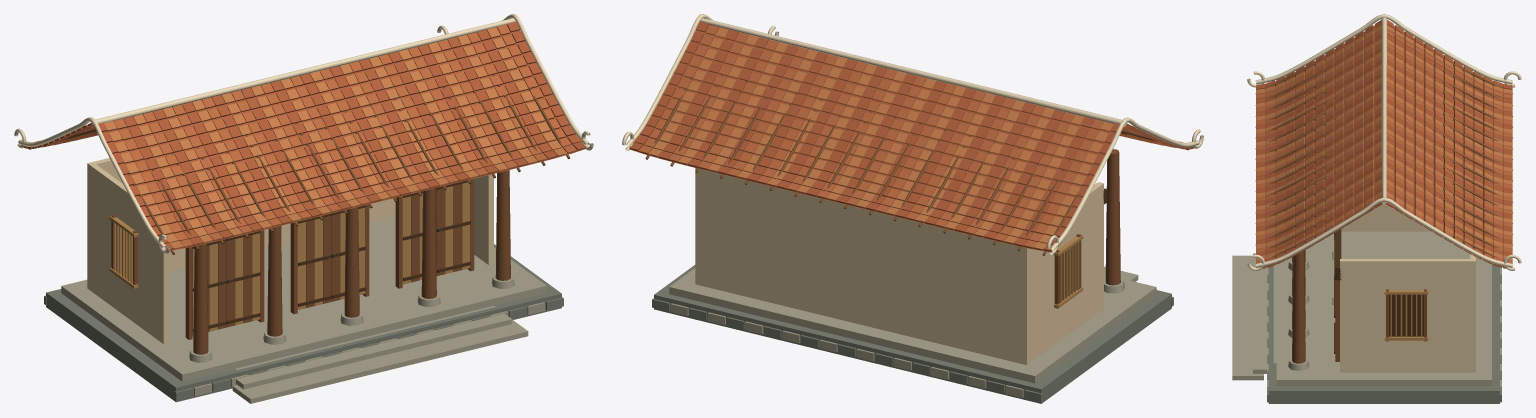
File: LV_DINH_LANG_01.glb
3 renders of one model, left to right at view 1: azimuth 30°, elevation 25°; view 2: azimuth 150°, elevation 25°; view 3: azimuth 270°, elevation 25°, orthographic. The views are drawn at different scales.
Visible parts, largest first — view 1: LV_DINH_LANG_01-surface-a8a28c, LV_DINH_LANG_01-surface-af5e39, LV_DINH_LANG_01-surface-c57b49, LV_DINH_LANG_01-surface-bb6a40, LV_DINH_LANG_01-surface-825331, LV_DINH_LANG_01-surface-dec8a1, LV_DINH_LANG_01-surface-797e70, LV_DINH_LANG_01-surface-ead9b8, door-hinge-1-surface-b68850 (×3), door-hinge-1-surface-825331 (×3), door-hinge--1-surface-b68850 (×3), door-hinge--1-surface-825331 (×3) (+1 smaller); view 2: LV_DINH_LANG_01-surface-dec8a1, LV_DINH_LANG_01-surface-af5e39, LV_DINH_LANG_01-surface-c57b49, LV_DINH_LANG_01-surface-bb6a40, LV_DINH_LANG_01-surface-a8a28c, LV_DINH_LANG_01-surface-797e70, LV_DINH_LANG_01-surface-825331, LV_DINH_LANG_01-surface-ead9b8, LV_DINH_LANG_01-surface-b68850; view 3: LV_DINH_LANG_01-surface-af5e39, LV_DINH_LANG_01-surface-a8a28c, LV_DINH_LANG_01-surface-c57b49, LV_DINH_LANG_01-surface-bb6a40, LV_DINH_LANG_01-surface-dec8a1, LV_DINH_LANG_01-surface-825331, LV_DINH_LANG_01-surface-797e70, LV_DINH_LANG_01-surface-ead9b8, LV_DINH_LANG_01-surface-50351f, LV_DINH_LANG_01-surface-b68850.
Part boxes in pixels (x1,y1,x2,y2): LV_DINH_LANG_01-surface-a8a28c: [61, 216, 546, 403]; LV_DINH_LANG_01-surface-af5e39: [24, 21, 586, 250]; LV_DINH_LANG_01-surface-c57b49: [34, 27, 567, 249]; LV_DINH_LANG_01-surface-bb6a40: [53, 24, 577, 247]; LV_DINH_LANG_01-surface-825331: [29, 74, 569, 354]; LV_DINH_LANG_01-surface-dec8a1: [87, 158, 493, 344]; LV_DINH_LANG_01-surface-797e70: [44, 244, 563, 402]; LV_DINH_LANG_01-surface-ead9b8: [14, 14, 593, 253]; door-hinge-1-surface-b68850 (×3): [235, 182, 470, 325]; door-hinge-1-surface-825331 (×3): [226, 184, 461, 327]; door-hinge--1-surface-b68850 (×3): [192, 193, 422, 335]; door-hinge--1-surface-825331 (×3): [207, 190, 436, 331]; LV_DINH_LANG_01-surface-dec8a1: [695, 168, 1103, 365]; LV_DINH_LANG_01-surface-af5e39: [629, 21, 1193, 252]; LV_DINH_LANG_01-surface-c57b49: [648, 27, 1184, 250]; LV_DINH_LANG_01-surface-bb6a40: [638, 24, 1163, 248]; LV_DINH_LANG_01-surface-a8a28c: [669, 266, 1156, 397]; LV_DINH_LANG_01-surface-797e70: [652, 265, 1173, 403]; LV_DINH_LANG_01-surface-825331: [645, 74, 1189, 308]; LV_DINH_LANG_01-surface-ead9b8: [622, 14, 1203, 254]; LV_DINH_LANG_01-surface-b68850: [1054, 235, 1083, 308]; LV_DINH_LANG_01-surface-af5e39: [1256, 20, 1512, 268]; LV_DINH_LANG_01-surface-a8a28c: [1232, 231, 1501, 387]; LV_DINH_LANG_01-surface-c57b49: [1256, 25, 1512, 260]; LV_DINH_LANG_01-surface-bb6a40: [1256, 29, 1512, 263]; LV_DINH_LANG_01-surface-dec8a1: [1340, 204, 1475, 372]; LV_DINH_LANG_01-surface-825331: [1255, 53, 1512, 363]; LV_DINH_LANG_01-surface-797e70: [1267, 264, 1501, 403]; LV_DINH_LANG_01-surface-ead9b8: [1247, 14, 1521, 270]; LV_DINH_LANG_01-surface-50351f: [1335, 229, 1423, 336]; LV_DINH_LANG_01-surface-b68850: [1334, 240, 1428, 340].
Bounding box in the file's own units: 13.84 × 7.46 × 9.14.
